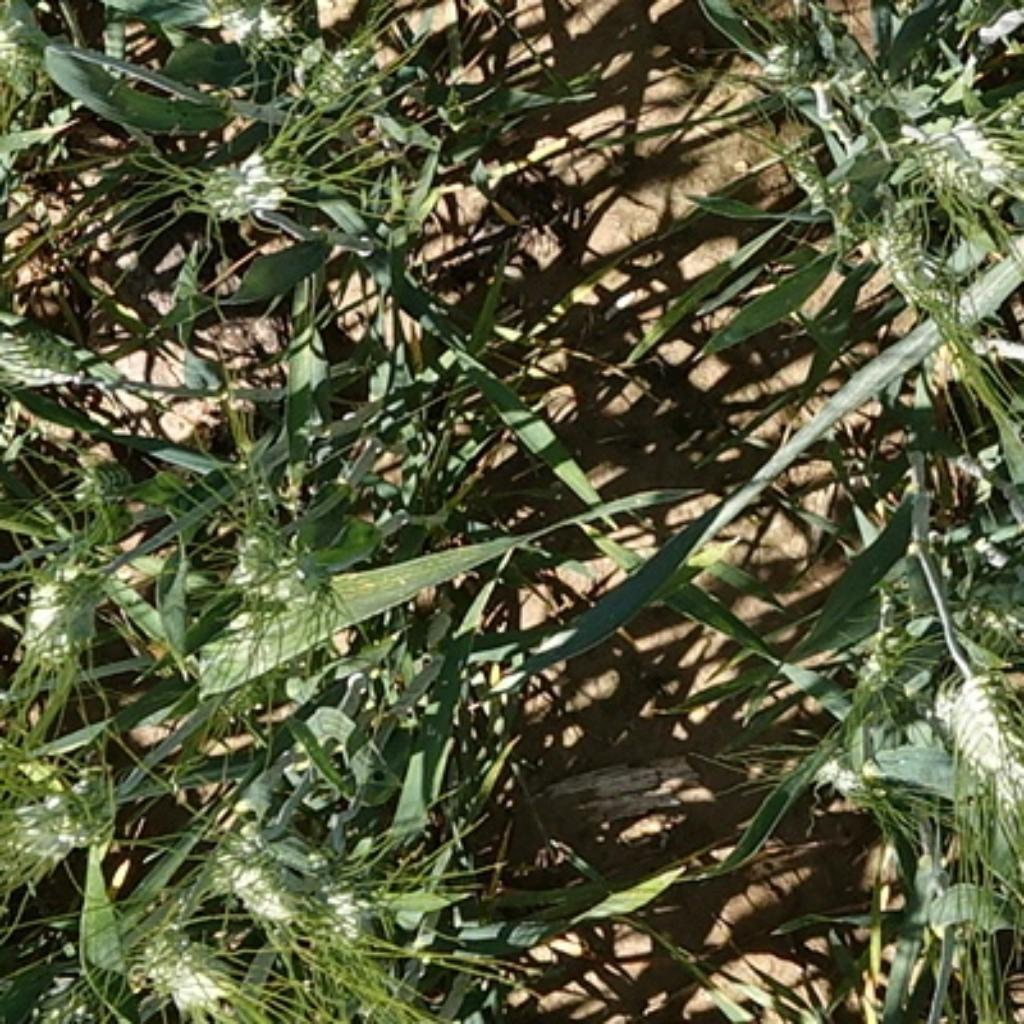0-0: (847, 192, 975, 322), (921, 663, 1024, 824), (194, 811, 322, 921), (220, 504, 337, 619), (893, 97, 1018, 199), (307, 857, 412, 970), (130, 916, 238, 1021), (17, 553, 113, 668), (31, 763, 137, 866), (192, 133, 299, 217), (2, 309, 105, 394), (850, 604, 929, 701), (748, 32, 847, 107), (2, 2, 69, 104), (296, 25, 378, 107), (263, 545, 348, 624), (803, 744, 893, 816), (945, 594, 1024, 666), (192, 0, 296, 53), (764, 139, 833, 211), (71, 445, 138, 501)
